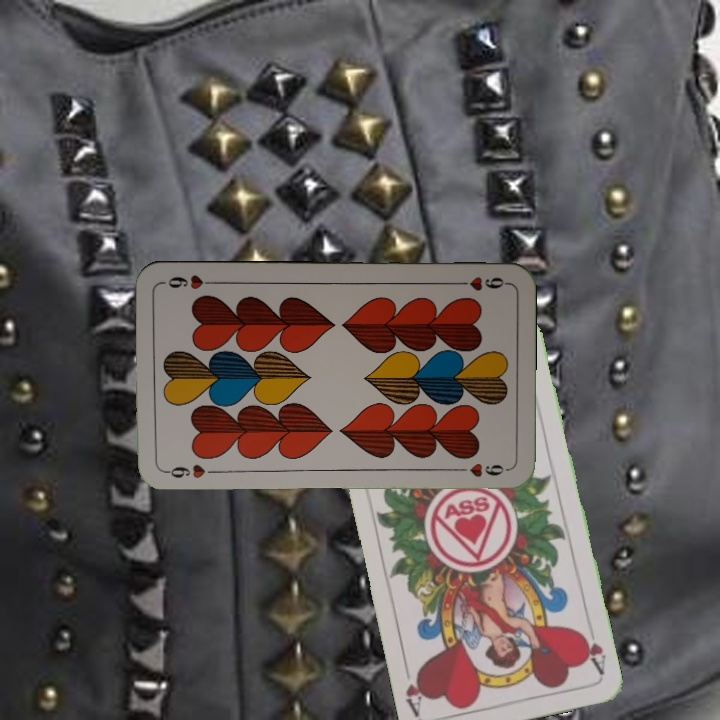H9: (451, 273, 510, 294), (160, 460, 207, 481)
HA: (576, 626, 609, 678)
